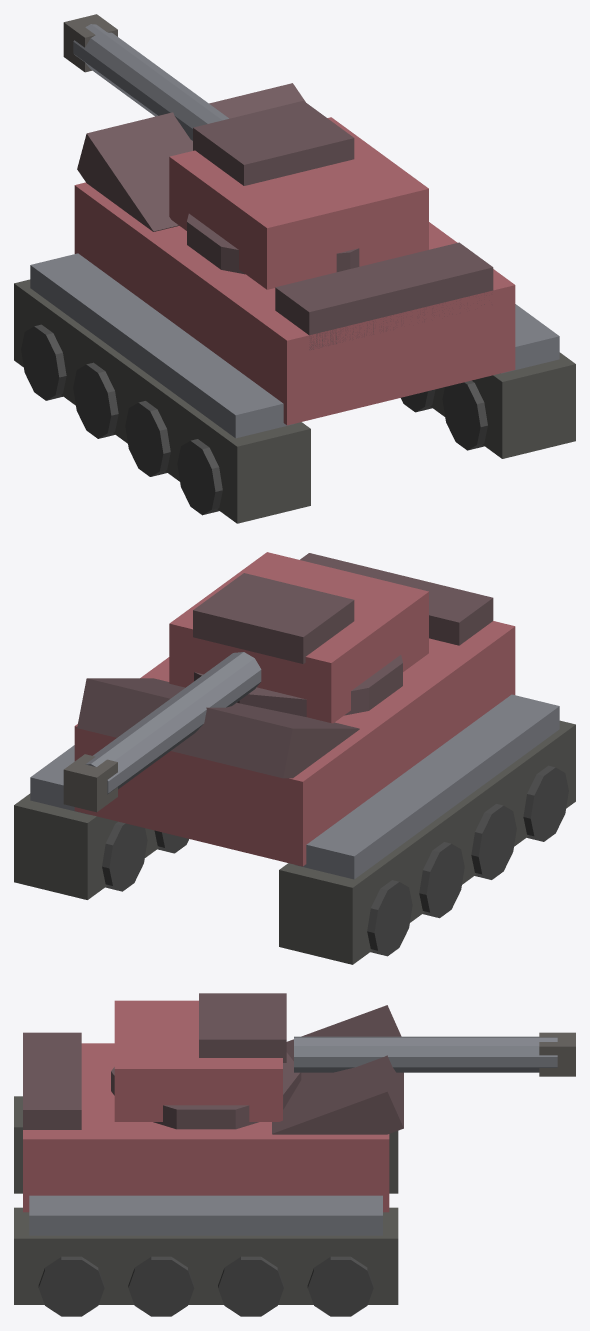
File: so_tick_tank.glb
3 views of the same model, one above another, from view 1: azimuth 30°, elevation 25°; view 2: azimuth 150°, elevation 25°; view 3: azimuth 270°, elevation 25° (orthographic). The views are drawn at different scales.
Parts seen in each view (by area): view 1: hull, turret; view 2: hull, turret; view 3: hull, turret.
Boxes of the visible parts, x1,y1,x2,y2 form: hull: (14,83,575,523); turret: (63,14,428,289); hull: (14,553,575,964); turret: (63,552,428,812); hull: (14,1005,403,1316); turret: (111,993,575,1129).
Bounding box in the file's own units: 0.96 × 0.6806 × 1.54.
